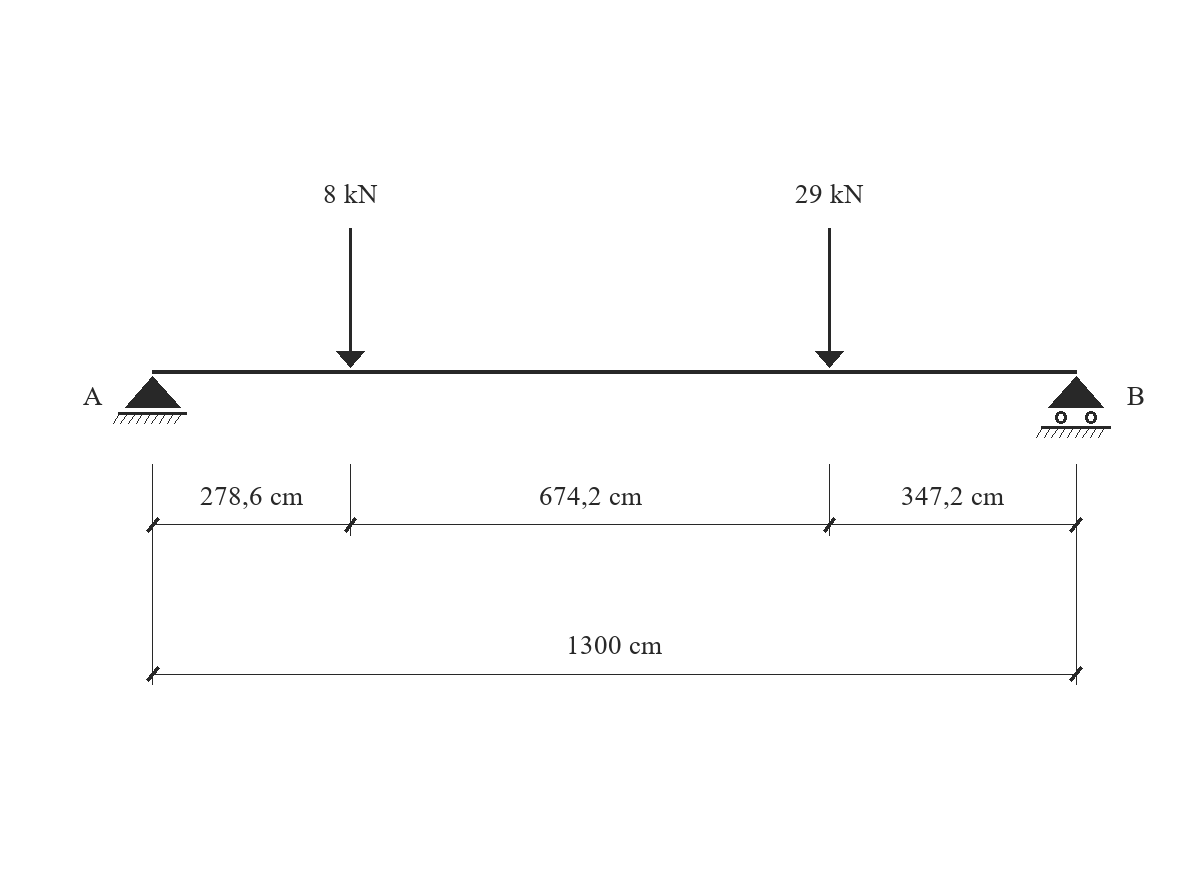pin_support: (113, 376, 187, 424)
point_load: (336, 228, 365, 368), (815, 228, 844, 368)
roller_support: (1036, 376, 1111, 438)
